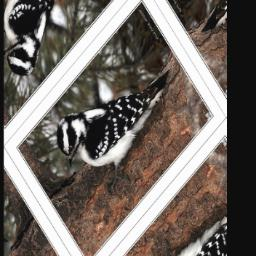Woodpecker: (50, 21, 193, 211)
